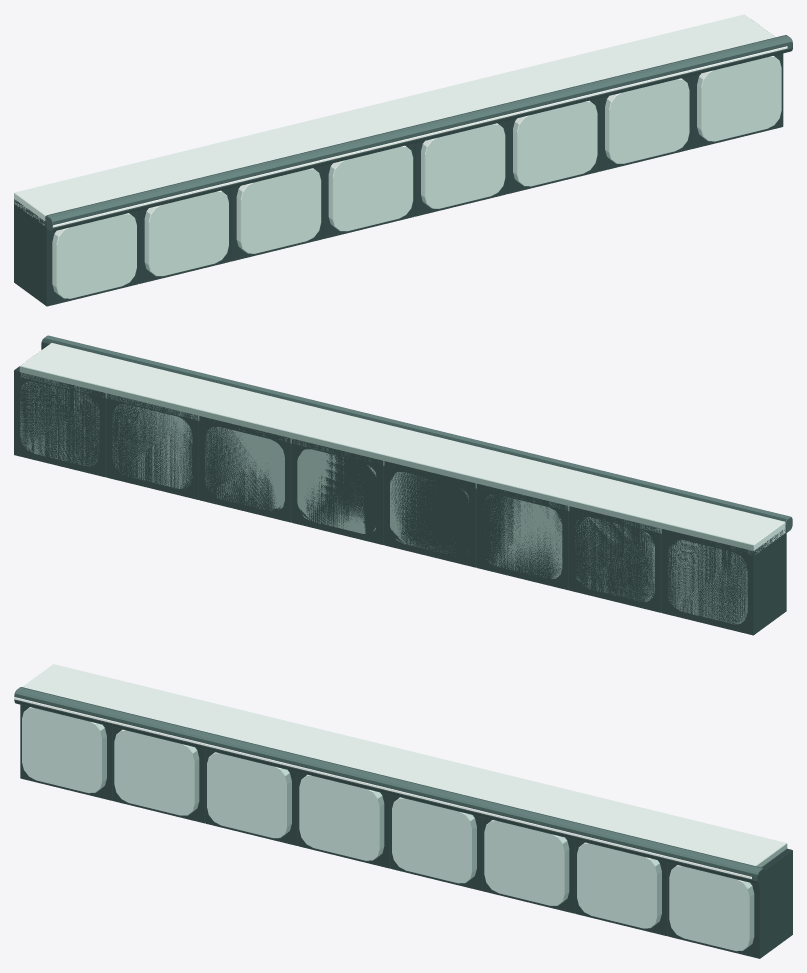
Rendered from Terrain_TopRun8R.gltf.
3 views of the same model, one above another, from view 1: azimuth 30°, elevation 25°; view 2: azimuth 150°, elevation 25°; view 3: azimuth 330°, elevation 25° (orthographic).
Parts seen in each view (by area): view 1: Terrain_TopRun8R_baked; view 2: Terrain_TopRun8R_baked; view 3: Terrain_TopRun8R_baked.
Boxes of the visible parts, box(x1,y1,x2,y2) form: Terrain_TopRun8R_baked: box(14, 14, 792, 306); Terrain_TopRun8R_baked: box(14, 335, 792, 635); Terrain_TopRun8R_baked: box(14, 664, 792, 958).
Bounding box in the file's own units: 8.04 × 0.9495 × 0.74.
